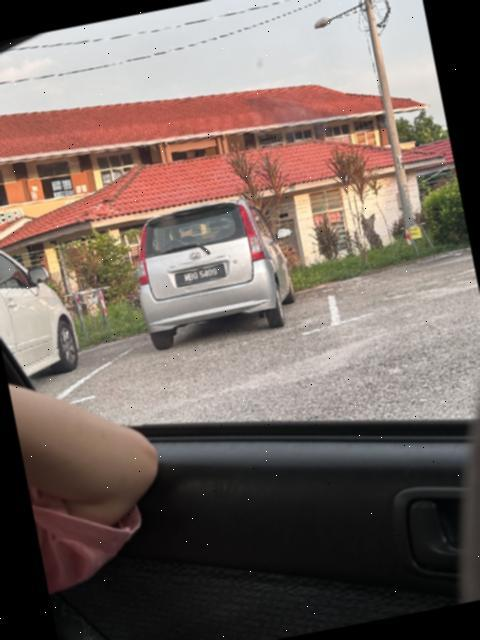License_Plate: (172, 263, 229, 289)
car: (122, 185, 312, 356)
